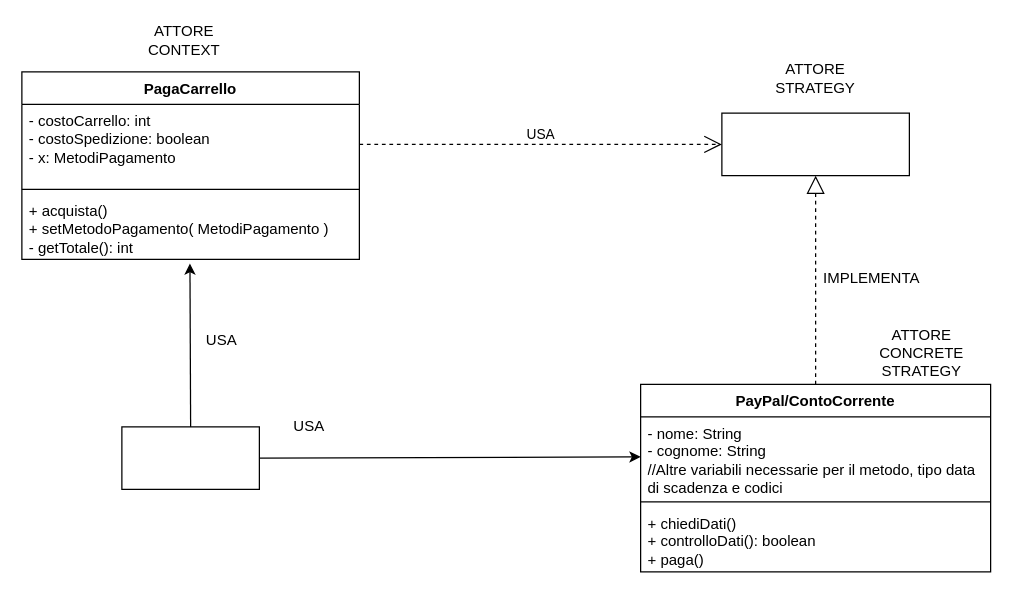
Some shapes in this 1013 by 596 pixel diagram are drawn without their labels. The centre of each missing label's shape, as x and y in pixels:
"CLIENT" belongs at (x=190, y=457).
"«interface» MetodiPagamento" belongs at (x=815, y=144).
